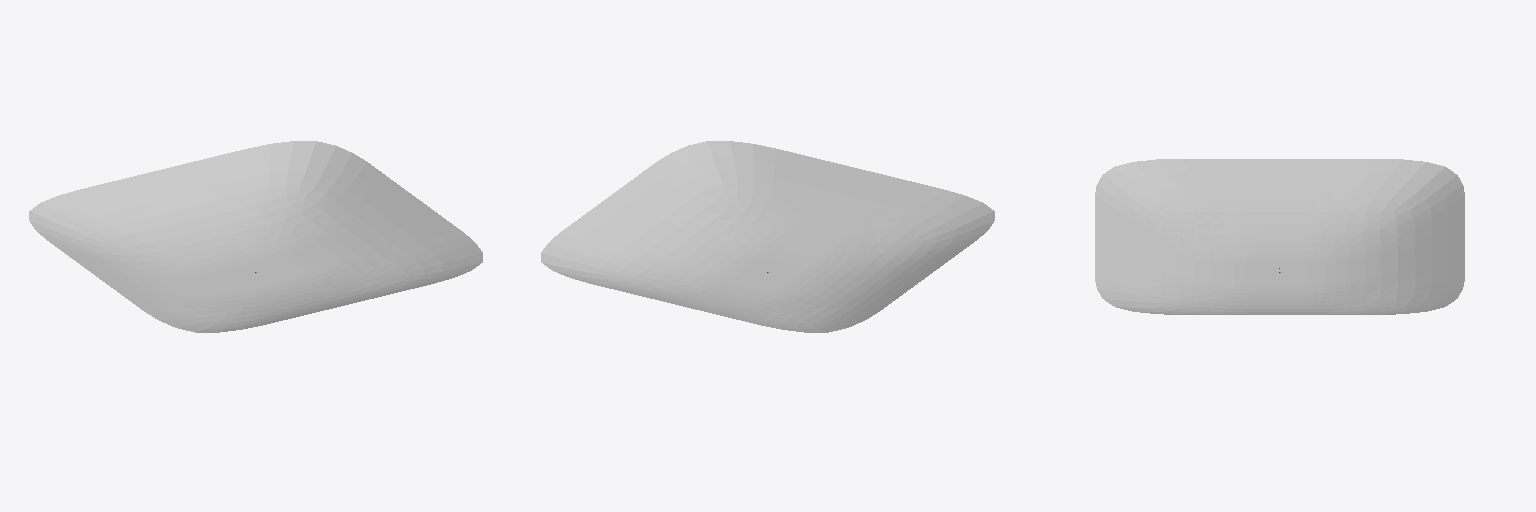
The model's file is gregzaal_tripod.obj.
3 renders of one model, left to right at view 1: azimuth 30°, elevation 25°; view 2: azimuth 150°, elevation 25°; view 3: azimuth 270°, elevation 25°, orthographic.
Visible parts, largest first — view 1: Plane; view 2: Plane; view 3: Plane.
Boxes of the visible parts, <box> form: Plane: <box>29,141,482,332</box>; Plane: <box>541,141,994,332</box>; Plane: <box>1095,159,1464,314</box>.
Size of the model in its own units: 275 by 31.42 by 275.